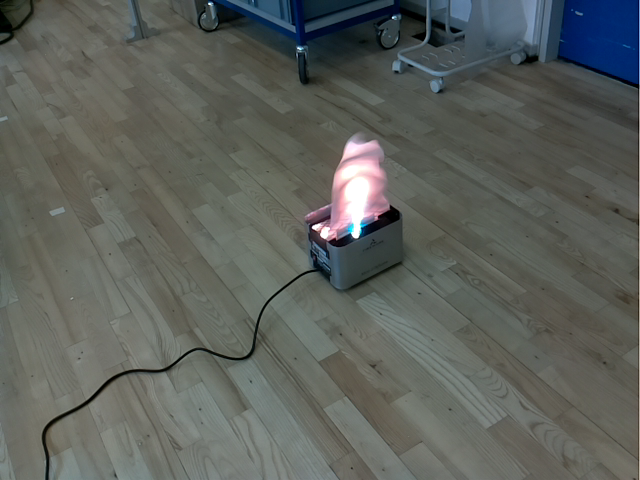fire: (325, 133, 387, 241)
